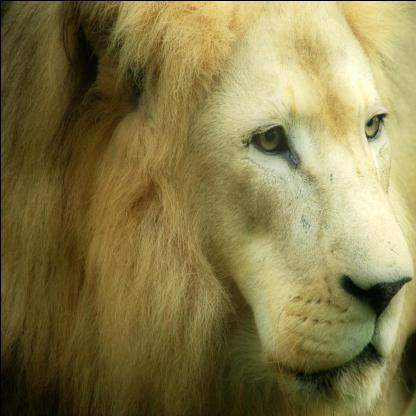lion: (126, 6, 414, 416)
